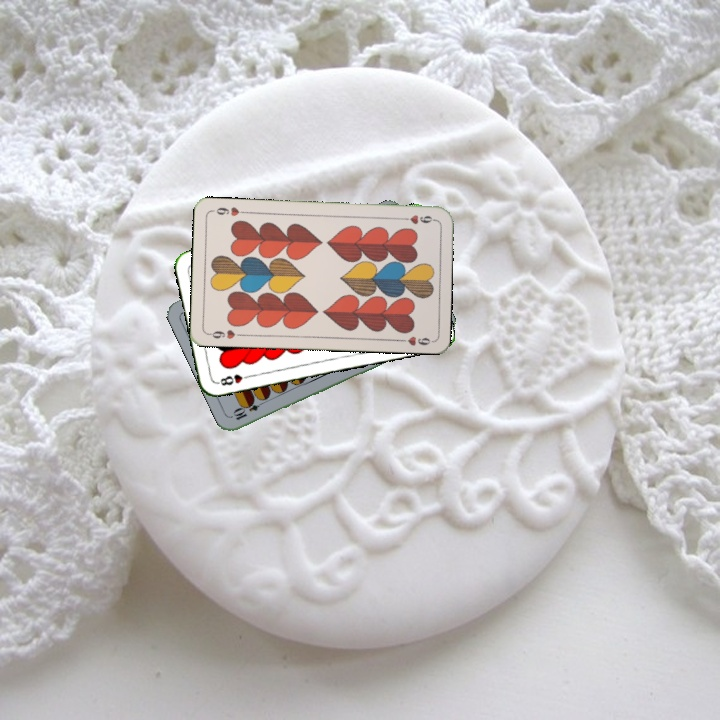E10: (229, 395, 268, 423)
H8: (213, 370, 254, 388)
H9: (397, 211, 438, 227), (205, 326, 245, 341)
